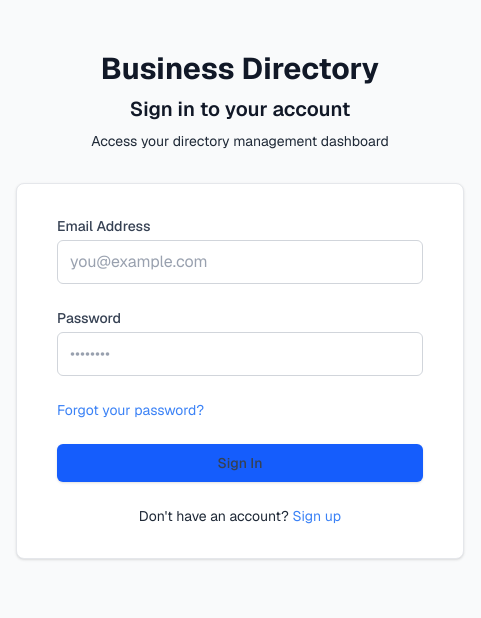
Admin Login Flow and Upload Page Access › displays error message on admin login failure
Fill in incorrect admin credentials
Type "wrong-admin@example.com" into the field labelled "Email Address" at (240, 262), box [57, 240, 423, 284]
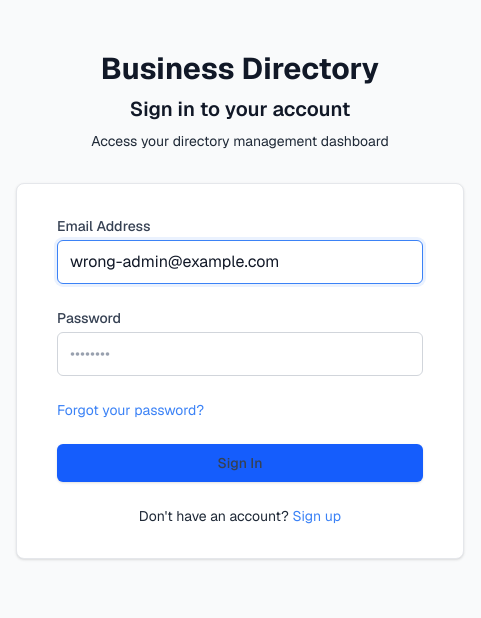
Type "wrongPassword" into the password field labelled "Password" at (240, 354), box [57, 332, 423, 376]
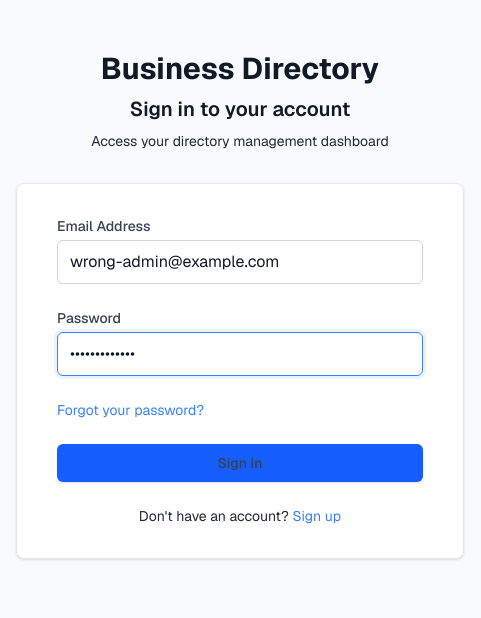
Click the button "Sign In" at (240, 463), box [57, 444, 423, 482]
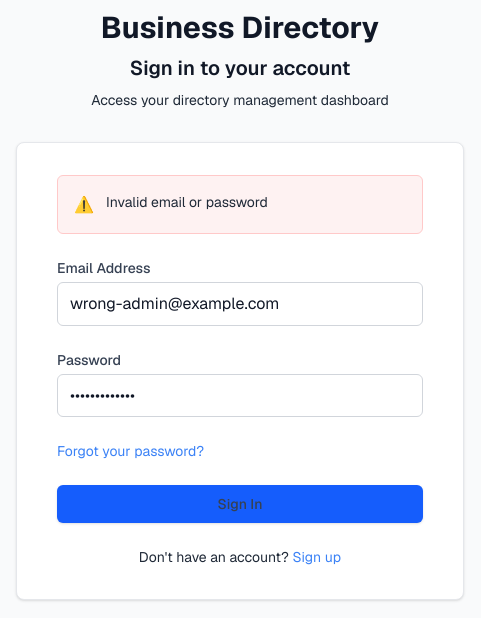
Expected: the text "Invalid email or password" is shown, [106, 192, 268, 212]
Expected: the text "⚠️" is shown, [74, 194, 94, 215]
